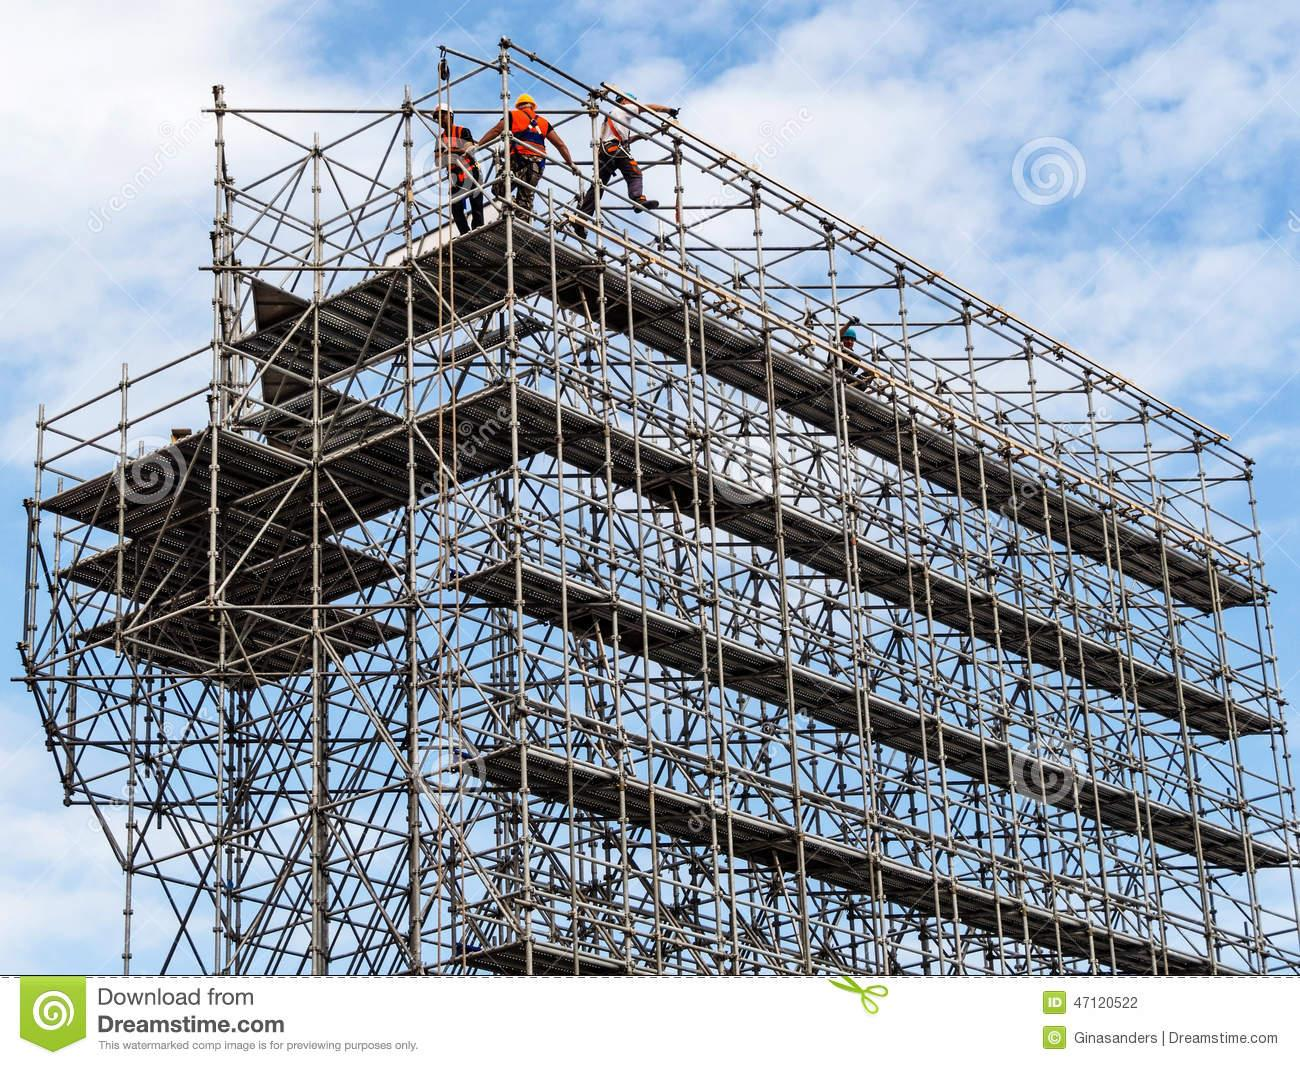helmet: (514, 95, 537, 109), (617, 92, 638, 104), (435, 103, 453, 116)
